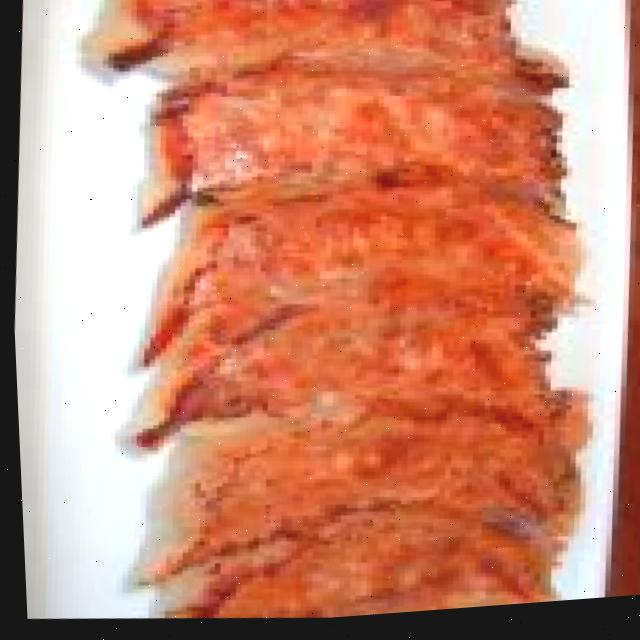带馅早点: (71, 0, 640, 636)
